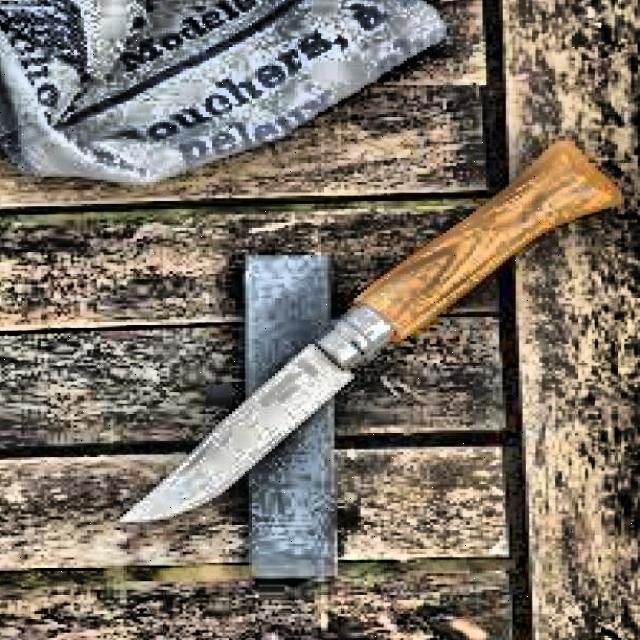knife: (110, 141, 634, 527)
